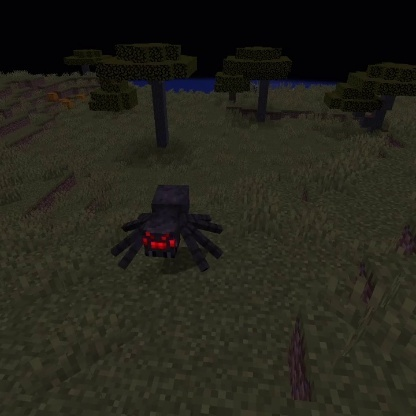spider: (107, 181, 228, 276)
